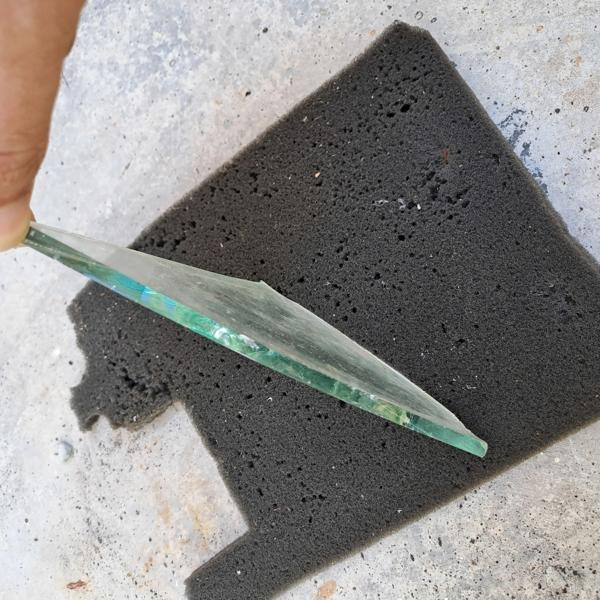Anorganik: (26, 219, 497, 466)
